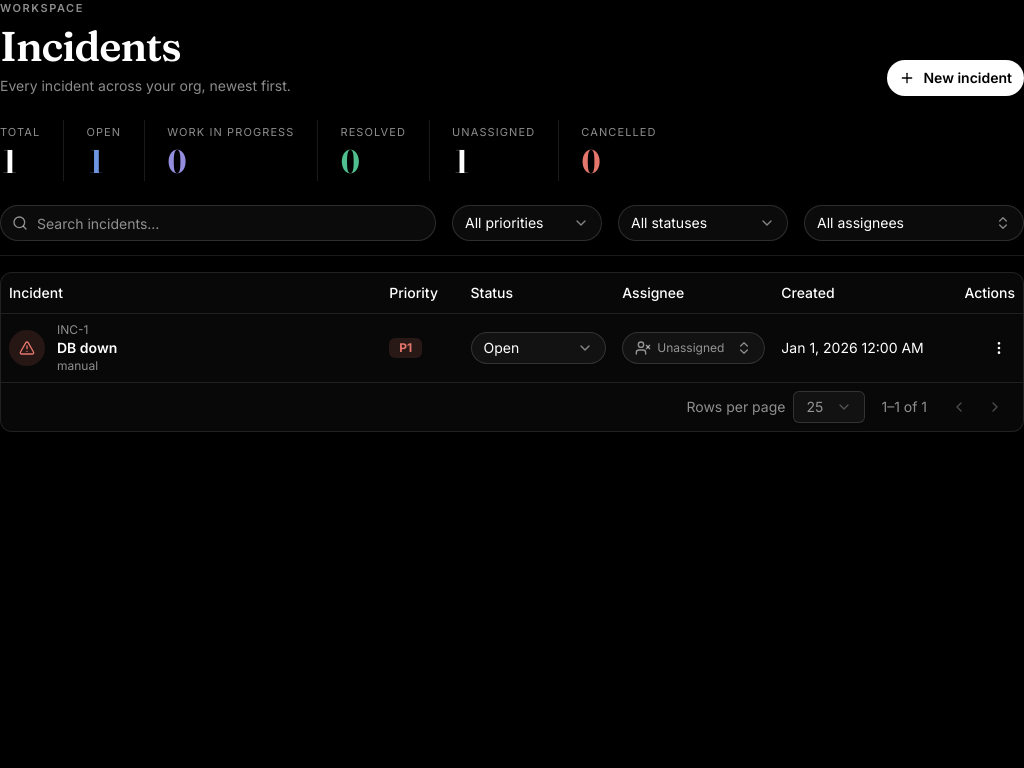
Scenario: IncidentsListPage — row actions menu › views, edits, and deletes an incident from the menu
This screenshot has width=1024, height=768.
What coordinates should you click on to do the following:
click the button named "More options"
I would click on:
 (999, 348)
Its box is [983,332,1015,364].
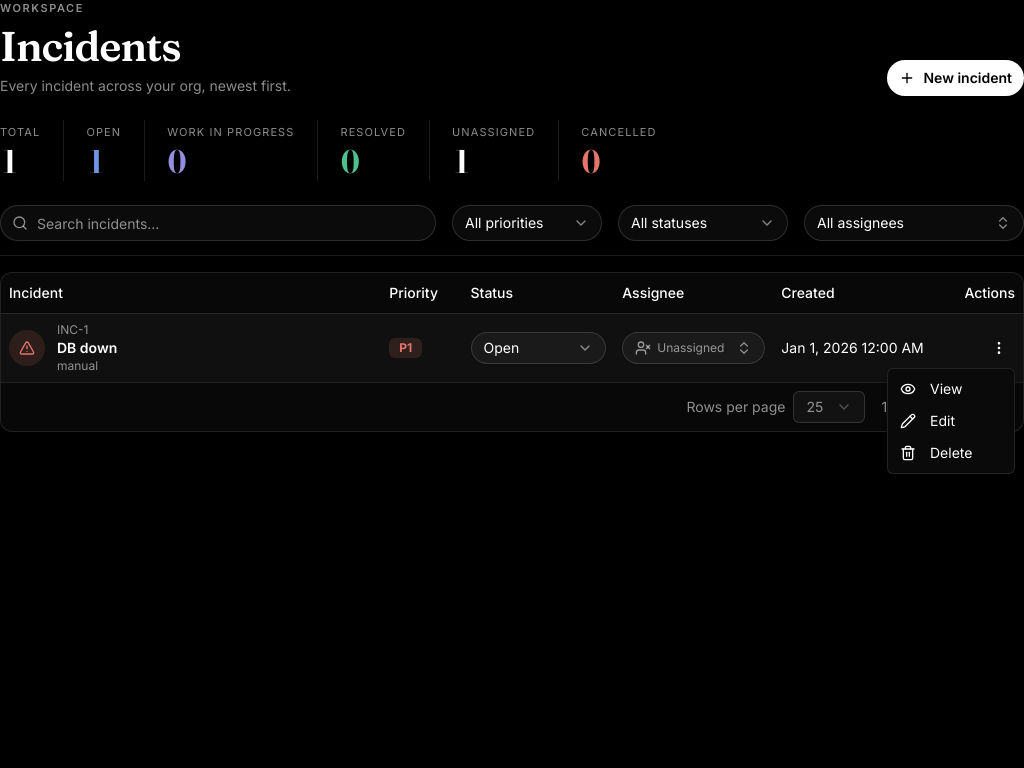
What coordinates should you click on to do the following:
click the menu item "View"
I would click on:
 (931, 388)
Its box is [900,380,962,397].
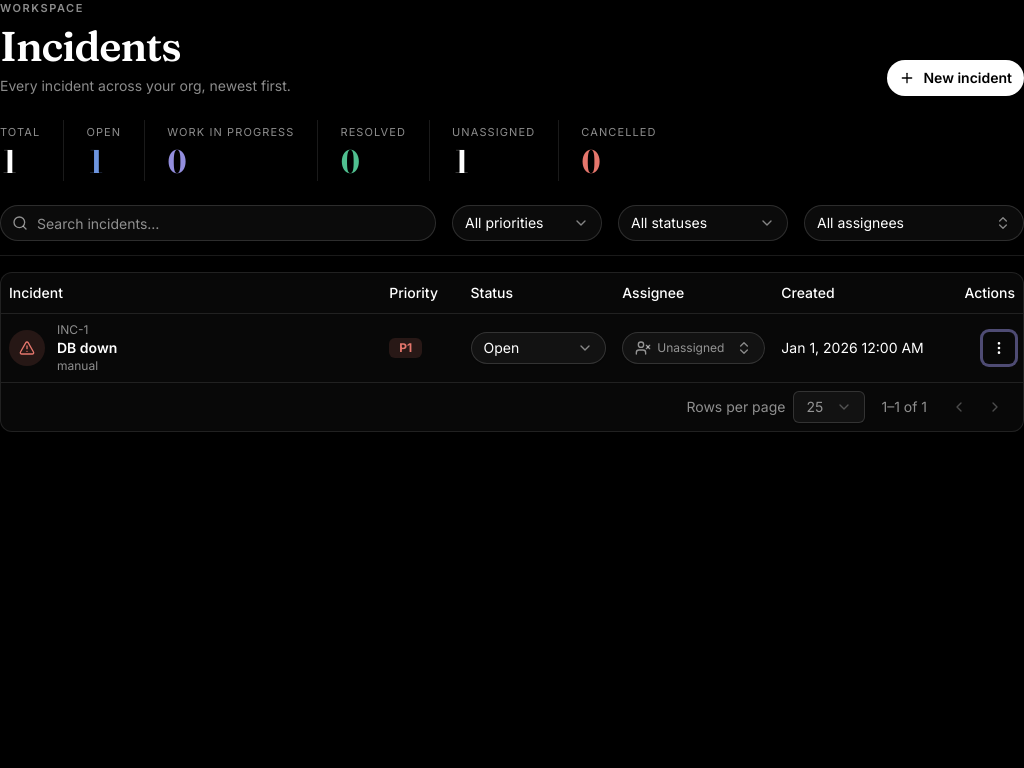
What coordinates should you click on to do the following:
click the button named "More options"
I would click on:
 (999, 348)
Its box is [983,332,1015,364].
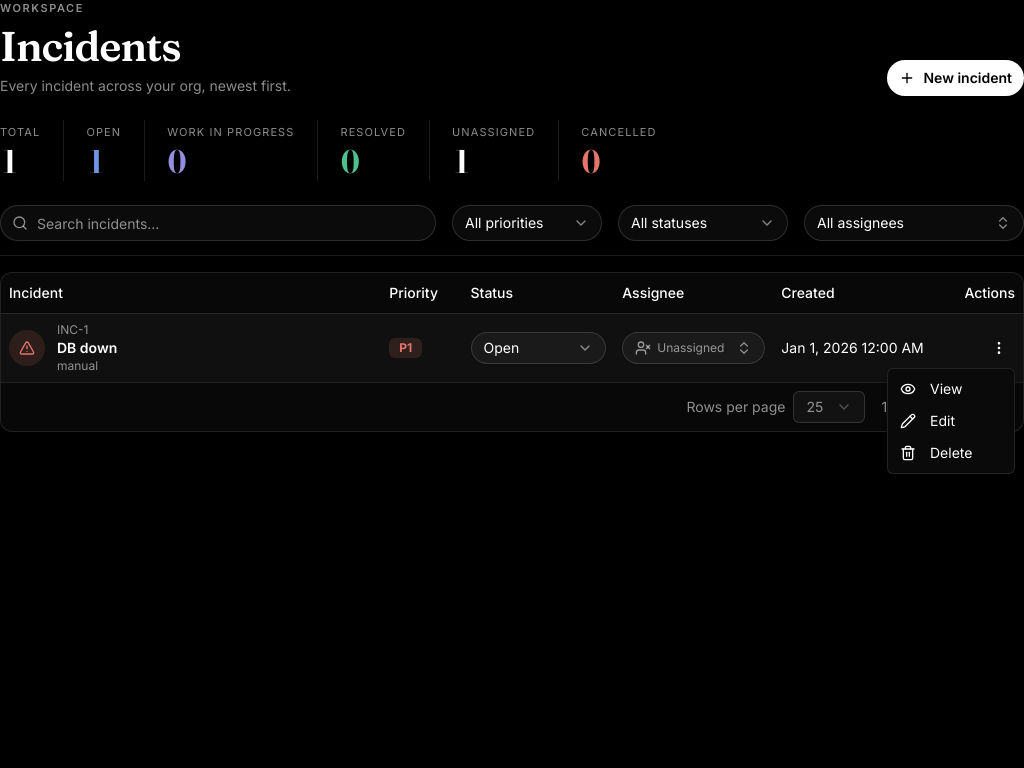
What coordinates should you click on to do the following:
click the menu item "Edit"
I would click on:
 (928, 420)
Its box is [900,412,955,429].
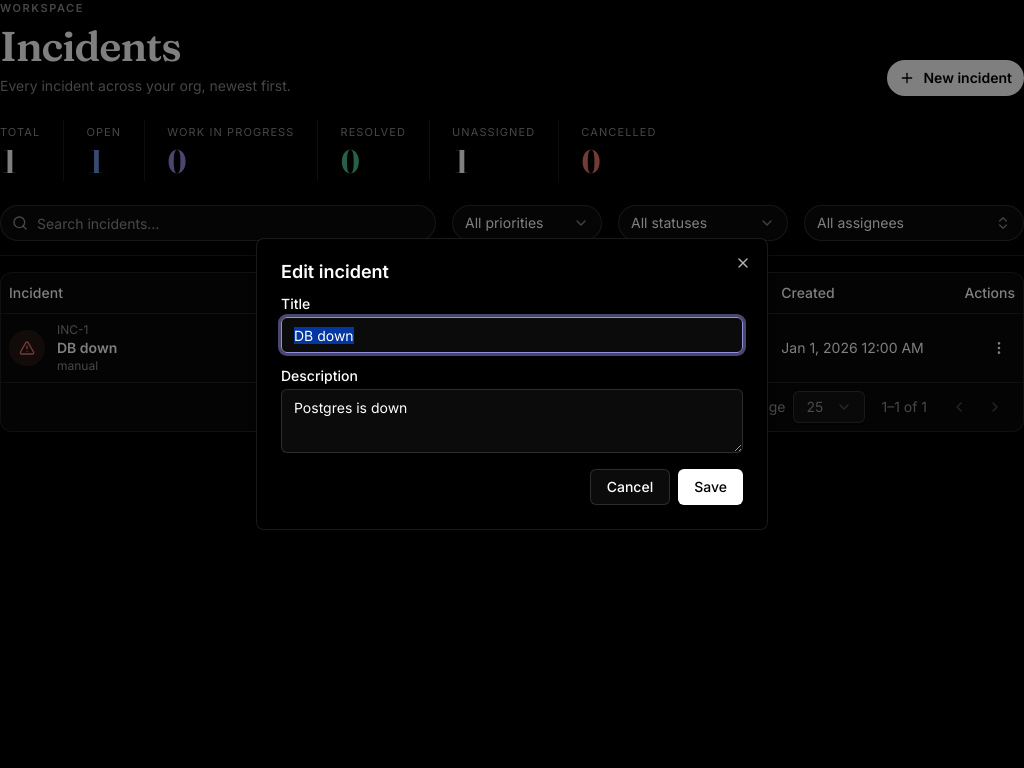
Expected: the dialog is shown, [256,238,768,530]
